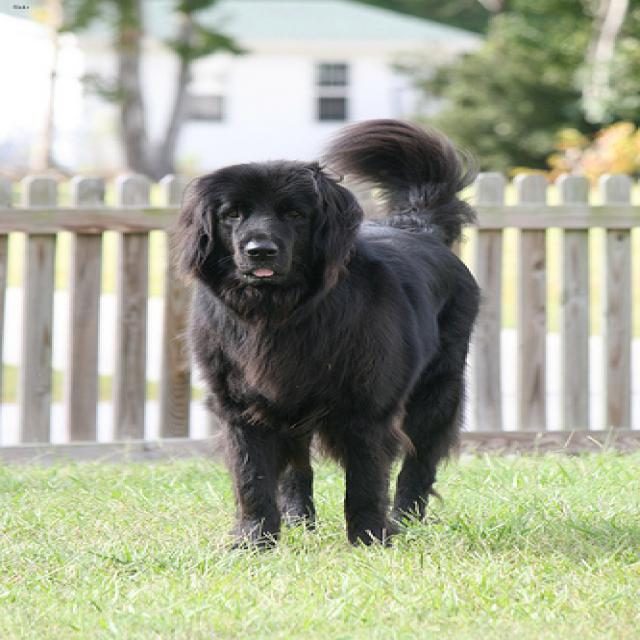dog-newfoundland: (158, 109, 498, 564)
